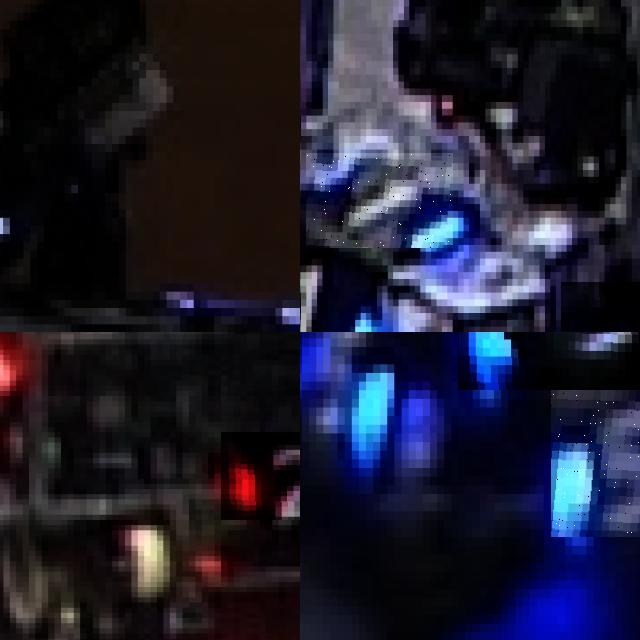B1: (306, 153, 453, 248), (300, 238, 401, 332)
B5: (550, 390, 640, 537), (300, 332, 394, 459), (458, 332, 640, 390)
R2: (221, 432, 300, 519)
